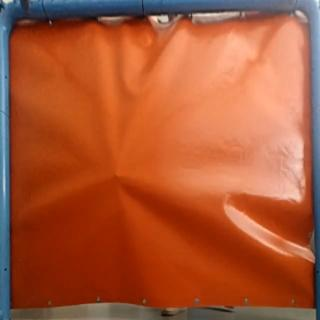Hit-hRxx: (108, 168, 127, 182)
